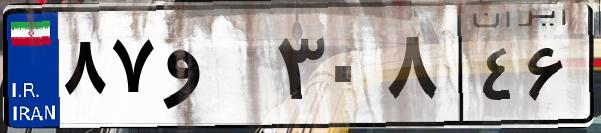0: (330, 28, 385, 110)
3: (270, 28, 330, 110)
4: (475, 38, 525, 113)
6: (525, 38, 570, 115)
7: (110, 28, 158, 98)
8: (385, 28, 445, 110), (57, 26, 110, 100)
و: (158, 20, 270, 120)
